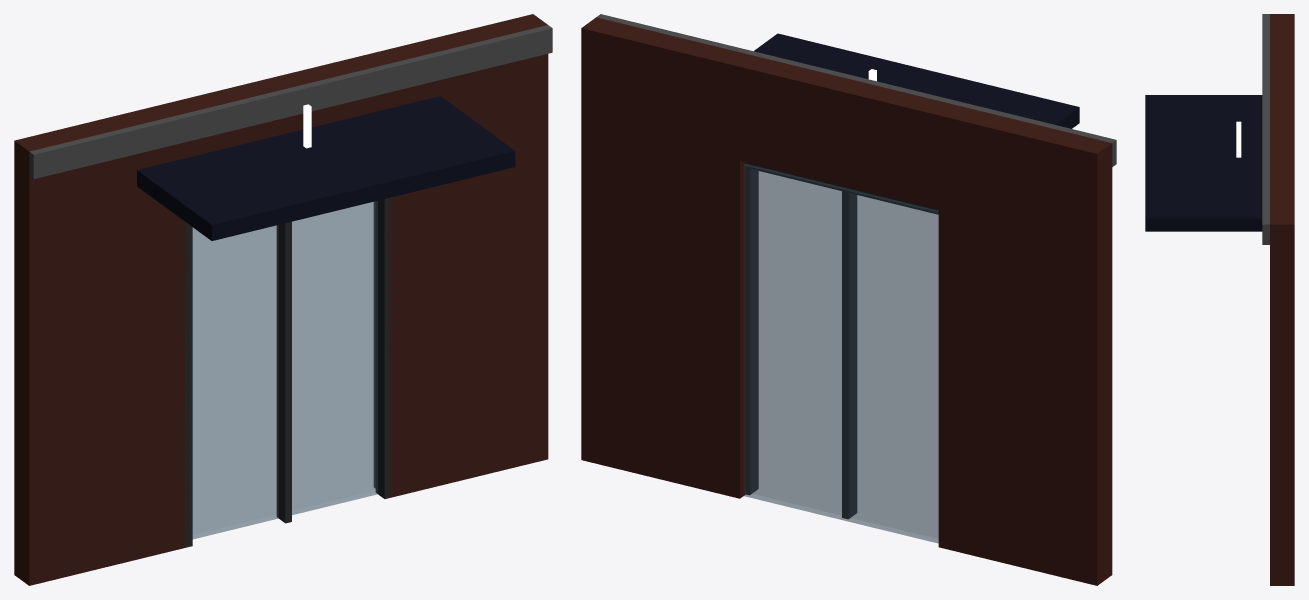
File: KIT_Wall_4m_Door_BrickDark.glb
The picture shows the model from 3 angles, left to right: view 1: azimuth 30°, elevation 25°; view 2: azimuth 150°, elevation 25°; view 3: azimuth 270°, elevation 25°; orthographic projection. The views are drawn at different scales.
Visible parts, largest first — view 1: KIT_Wall_4m_Door_BrickDark; view 2: KIT_Wall_4m_Door_BrickDark; view 3: KIT_Wall_4m_Door_BrickDark.
Part boxes in pixels (left/top/right/bottom): KIT_Wall_4m_Door_BrickDark: left=14, top=14, right=552, bottom=585; KIT_Wall_4m_Door_BrickDark: left=581, top=14, right=1116, bottom=585; KIT_Wall_4m_Door_BrickDark: left=1145, top=14, right=1294, bottom=585.
Size of the model in its own units: 4 by 3.2 by 1.2.
